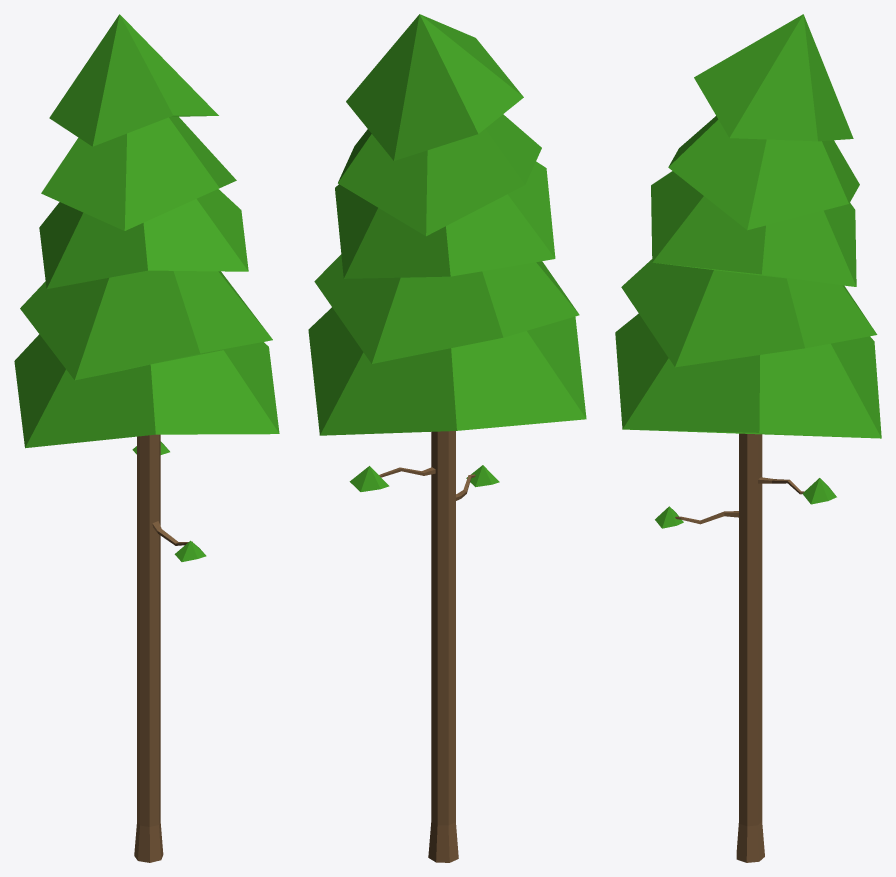
Rendered from Tree_02.fbx.
The picture shows the model from 3 angles, left to right: view 1: azimuth 30°, elevation 25°; view 2: azimuth 150°, elevation 25°; view 3: azimuth 270°, elevation 25°; orthographic projection. The views are drawn at different scales.
Parts seen in each view (by area): view 1: Tree_02; view 2: Tree_02; view 3: Tree_02.
Boxes of the visible parts, x1,y1,x2,y2 form: Tree_02: (14,14,279,862); Tree_02: (308,14,586,862); Tree_02: (615,14,881,862).
Size of the model in its own units: 409 by 1265 by 363.
